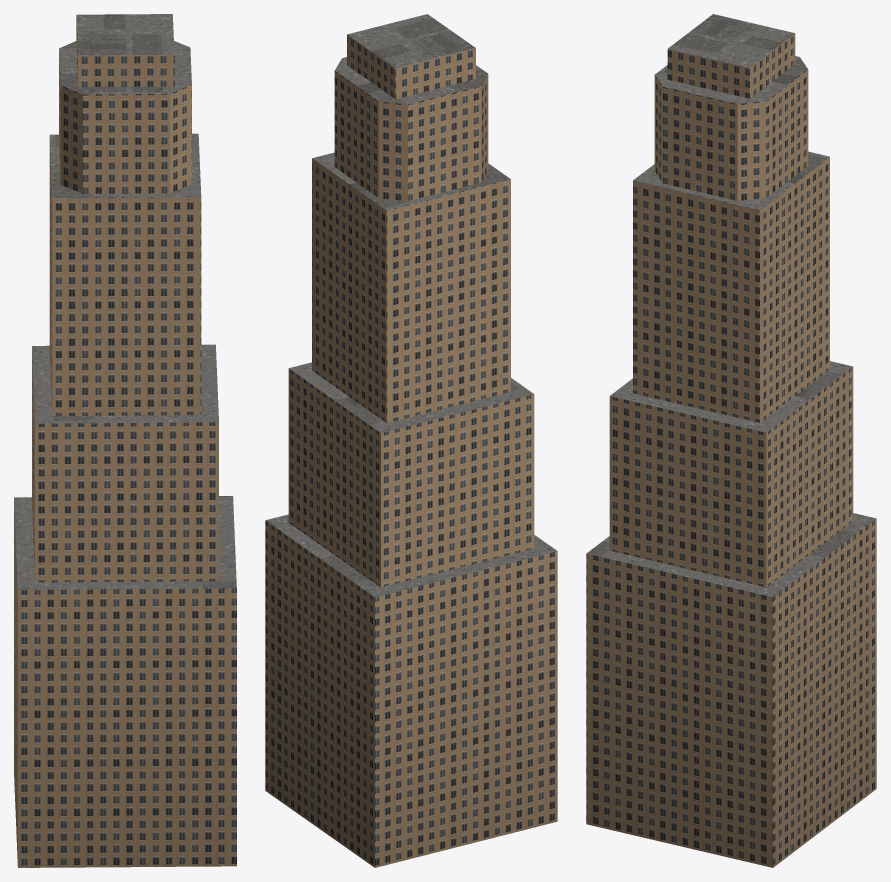
The model's file is chanin.glb.
3 renders of one model, left to right at view 1: azimuth 30°, elevation 25°; view 2: azimuth 150°, elevation 25°; view 3: azimuth 270°, elevation 25°, orthographic. The views are drawn at different scales.
Visible parts, largest first — view 1: chanin; view 2: chanin; view 3: chanin.
Boxes of the visible parts, x1,y1,x2,y2 form: chanin: (14, 14, 236, 867); chanin: (265, 14, 557, 867); chanin: (586, 14, 876, 867).
Bounding box in the file's own units: 67.97 × 198 × 67.97.
Materials: 10 (10 with a texture image).
